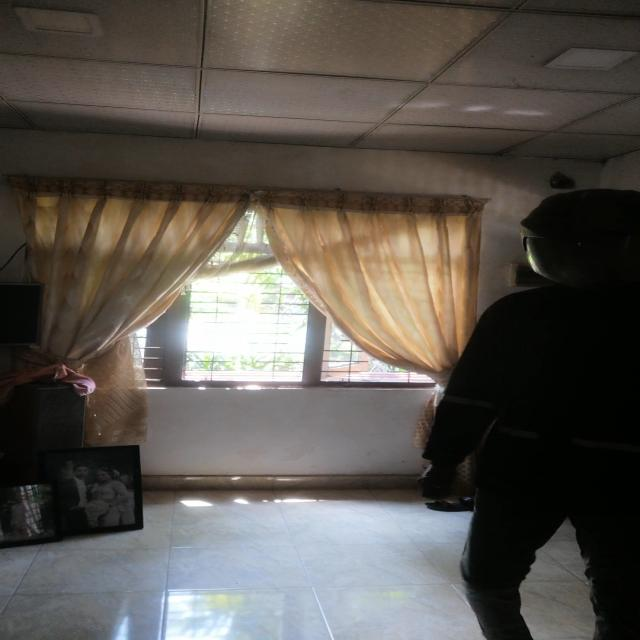Helmet_Wearer: (483, 181, 640, 292)
Jacket_Wearer: (429, 292, 640, 525)
Person: (416, 179, 640, 640)
